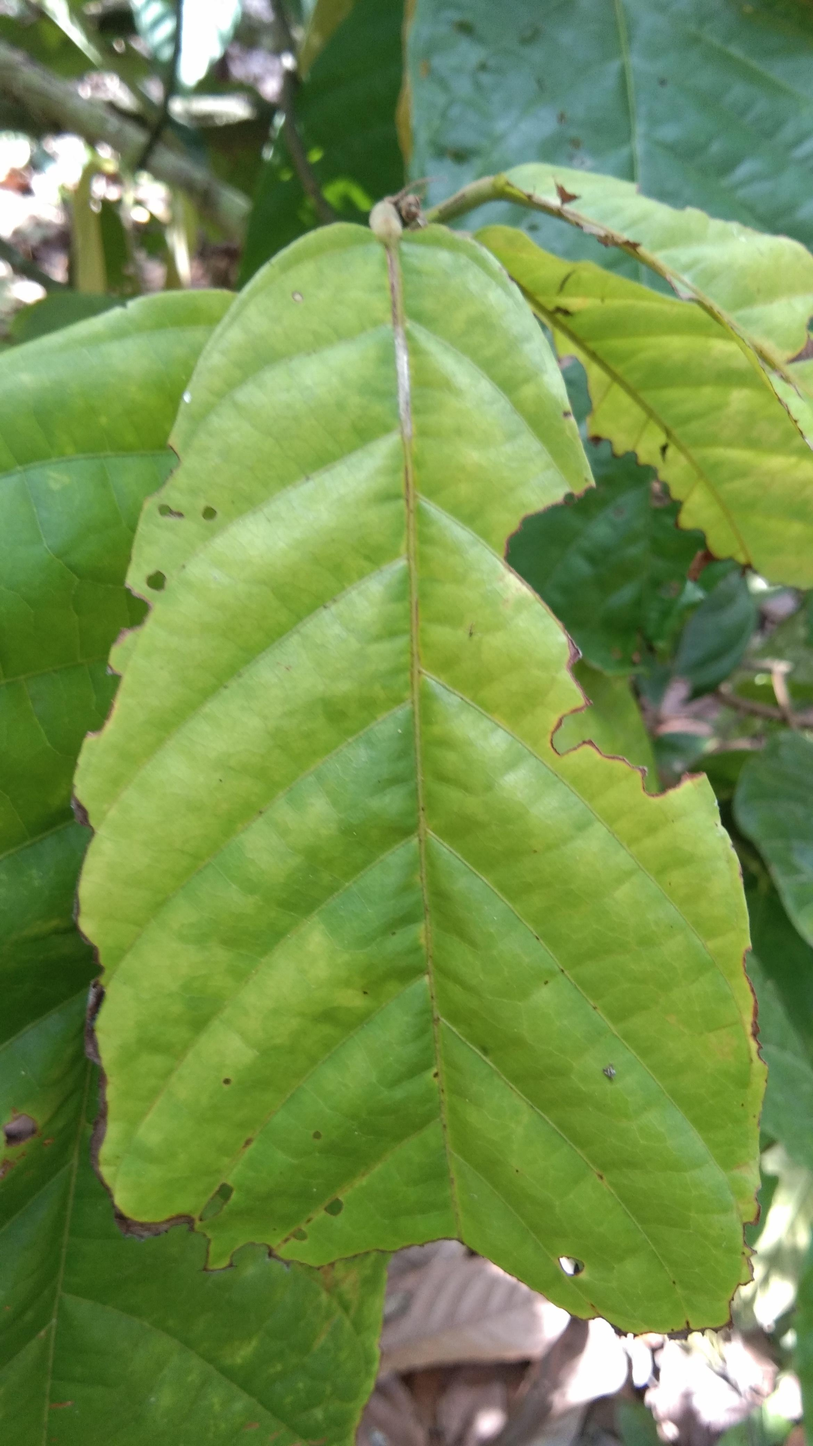deficiencia_potasio: (73, 202, 764, 1321)
